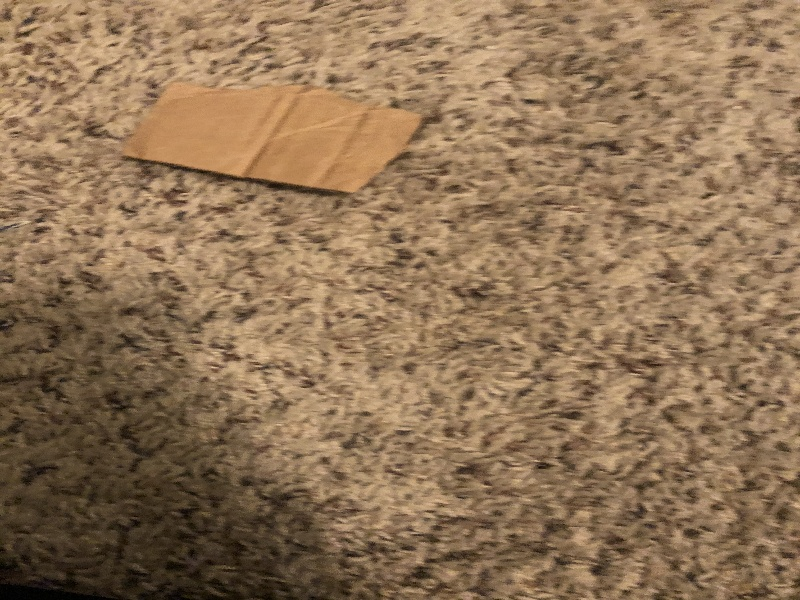cardboard: (120, 72, 430, 206)
